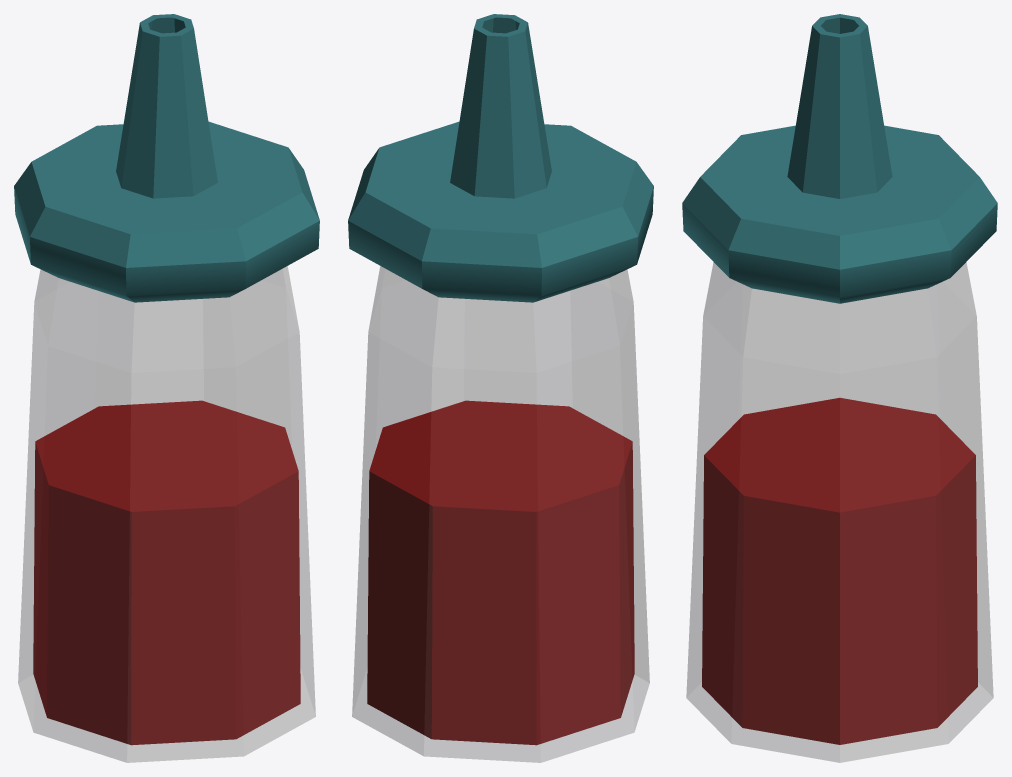
The model's file is ketchup.fbx.
3 renders of one model, left to right at view 1: azimuth 30°, elevation 25°; view 2: azimuth 150°, elevation 25°; view 3: azimuth 270°, elevation 25°, orthographic.
Visible parts, largest first — view 1: pCylinder3; view 2: pCylinder3; view 3: pCylinder3.
Part boxes in pixels (x1,y1,x2,y2): pCylinder3: (14,14,319,762); pCylinder3: (348,14,653,762); pCylinder3: (682,14,997,762).
Bounding box in the file's own units: 2.48 × 5.83 × 2.48.
